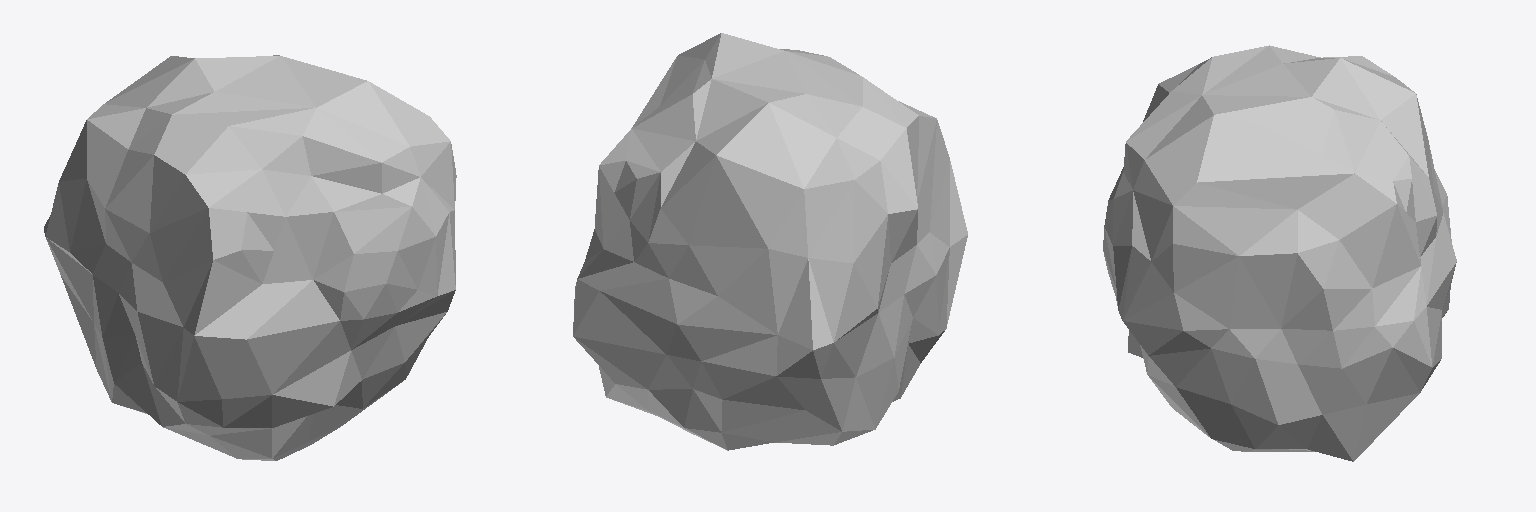
The model's file is HalfRock_02.obj.
3 renders of one model, left to right at view 1: azimuth 30°, elevation 25°; view 2: azimuth 150°, elevation 25°; view 3: azimuth 270°, elevation 25°, orthographic.
Parts seen in each view (by area): view 1: ICO球; view 2: ICO球; view 3: ICO球.
Boxes of the visible parts, x1,y1,x2,y2 form: ICO球: [44, 55, 456, 460]; ICO球: [573, 33, 967, 450]; ICO球: [1103, 45, 1456, 461].
Bounding box in the file's own units: 4.67 × 5.42 × 4.76.